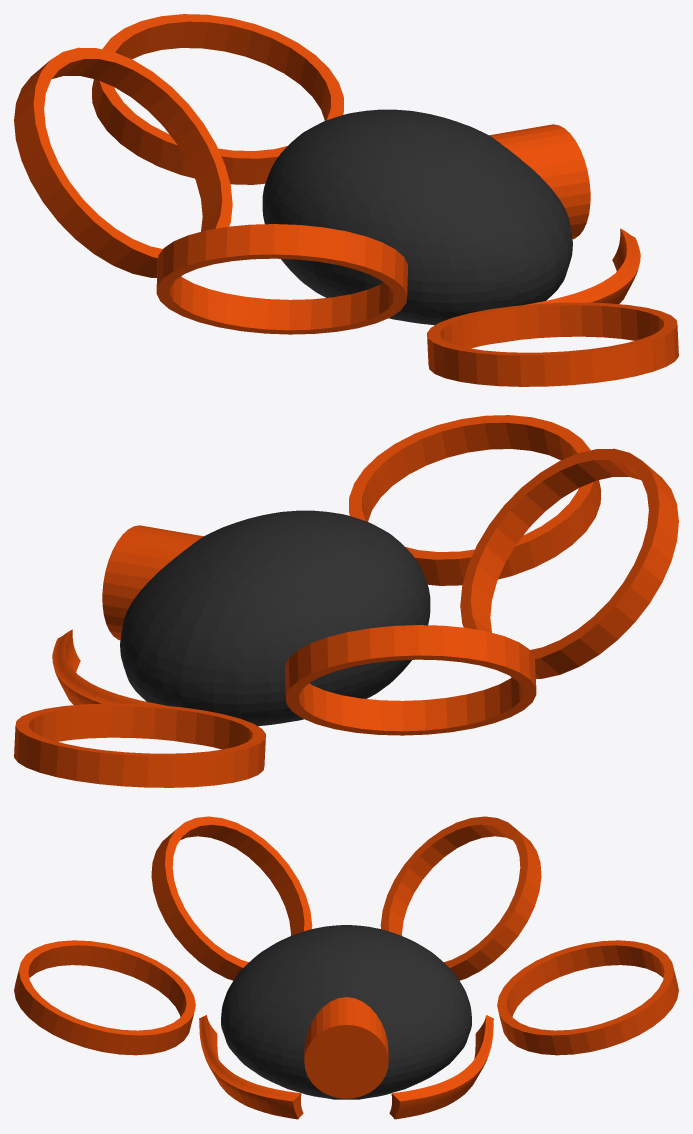
Rendered from drone.fbx.
3 views of the same model, one above another, from view 1: azimuth 30°, elevation 25°; view 2: azimuth 150°, elevation 25°; view 3: azimuth 270°, elevation 25° (orthographic). The views are drawn at different scales.
Parts seen in each view (by area): view 1: Sphere, Cylinder.002, Cylinder.001, Cylinder, Cube; view 2: Sphere, Cylinder.002, Cylinder.001, Cylinder, Cube; view 3: Sphere, Cylinder.001, Cylinder.002, Cylinder, Cube.
Boxes of the visible parts, x1=… form: Sphere: x1=262, y1=109, x2=572, y2=325; Cylinder.002: x1=14, y1=47, x2=407, y2=334; Cylinder.001: x1=92, y1=14, x2=678, y2=386; Cylinder: x1=489, y1=124, x2=590, y2=239; Cube: x1=494, y1=228, x2=640, y2=343; Sphere: x1=120, y1=510, x2=430, y2=726; Cylinder.002: x1=285, y1=448, x2=678, y2=735; Cylinder.001: x1=14, y1=415, x2=600, y2=787; Cylinder: x1=102, y1=525, x2=203, y2=640; Cube: x1=52, y1=629, x2=198, y2=744; Sphere: x1=221, y1=925, x2=471, y2=1099; Cylinder.001: x1=14, y1=940, x2=678, y2=1055; Cylinder.002: x1=151, y1=816, x2=541, y2=980; Cylinder: x1=304, y1=997, x2=388, y2=1098; Cube: x1=199, y1=1015, x2=493, y2=1119.
Bounding box in the file's own units: 461 × 195 × 734.
